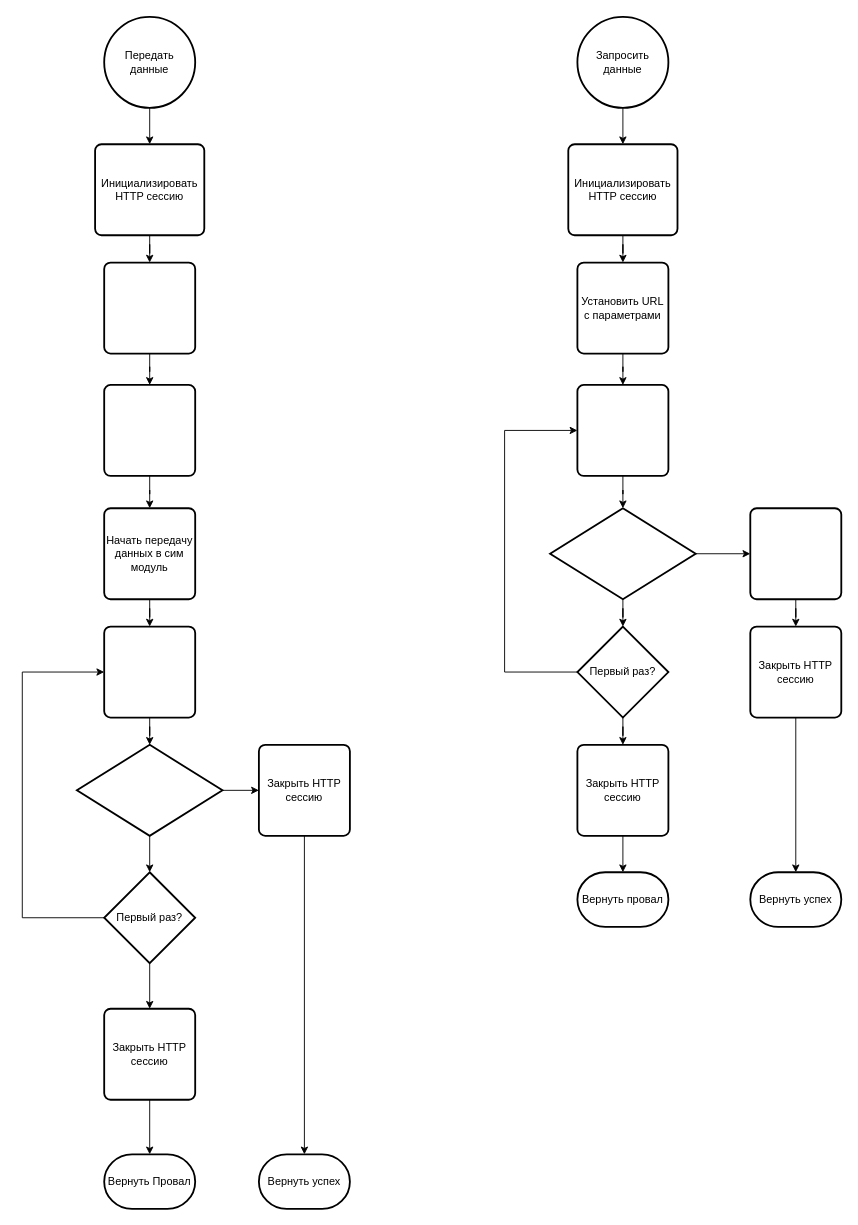
This 858x1225 diagram has some shape labels left out. Each missing label, with the centre of its shape:
Данные отправлены?: (x=149, y=789)
Ответ положительный?: (x=622, y=553)
Отправить GET запрос: (x=622, y=430)
Отправить POST запрос: (x=149, y=671)
Прочитать в буффер: (x=795, y=553)
Установить CONTENT: (x=149, y=430)
Установить URL: (x=149, y=307)
